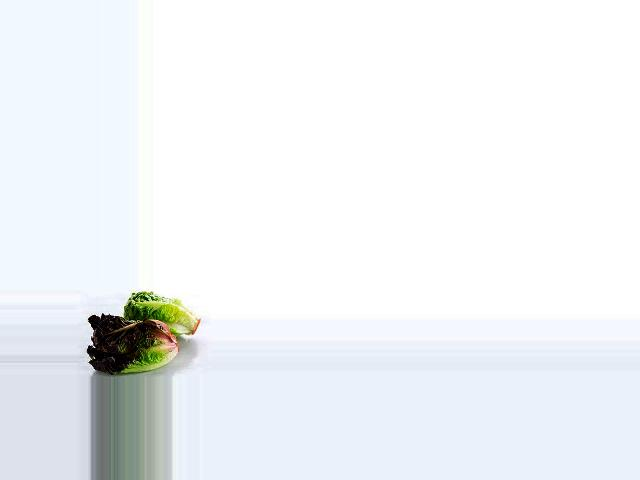lettuce: (122, 290, 203, 337)
